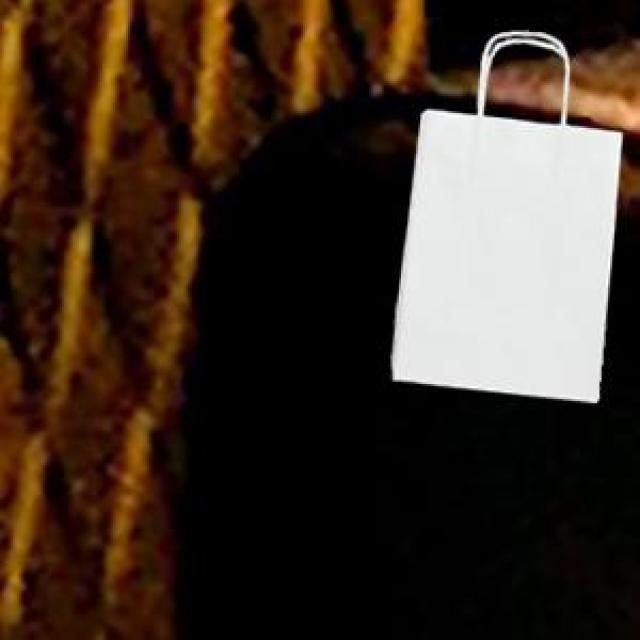paper: (388, 28, 617, 399)
